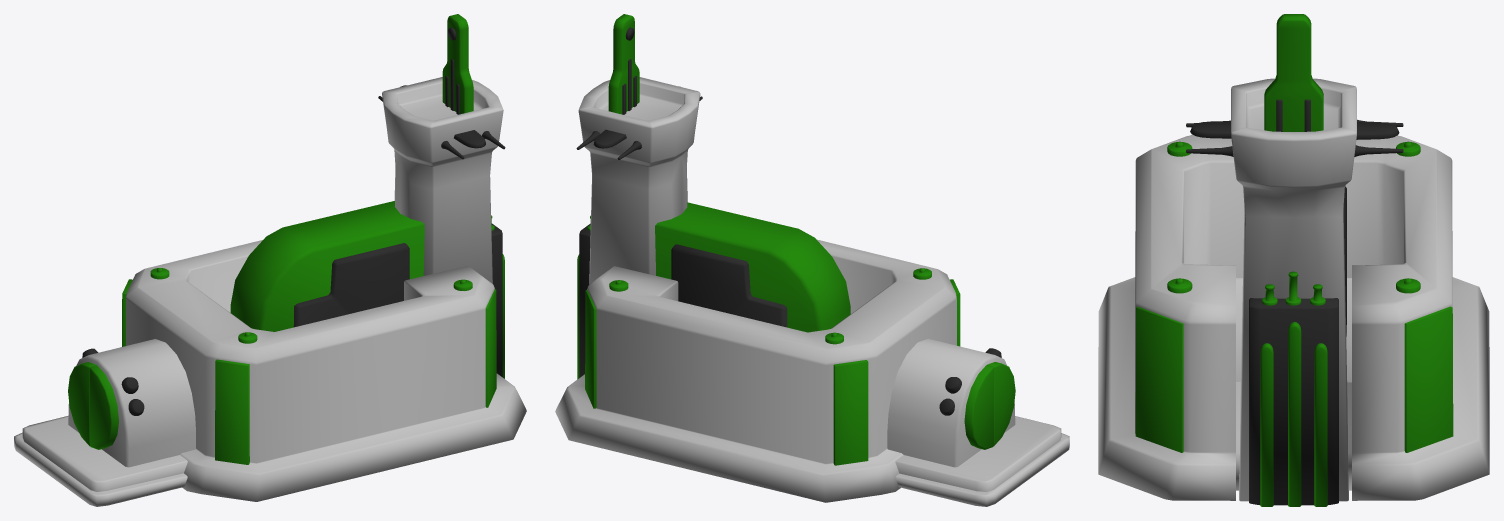
3 renders of one model, left to right at view 1: azimuth 30°, elevation 25°; view 2: azimuth 150°, elevation 25°; view 3: azimuth 270°, elevation 25°, orthographic. The views are drawn at different scales.
Visible parts, largest first — view 1: Drone_control_center.002; view 2: Drone_control_center.002; view 3: Drone_control_center.002.
Boxes of the visible parts, bbox=[...] form: Drone_control_center.002: bbox=[14, 14, 526, 506]; Drone_control_center.002: bbox=[555, 14, 1069, 506]; Drone_control_center.002: bbox=[1098, 14, 1489, 506].
Size of the model in its own units: 16.53 by 13.05 by 9.78.
